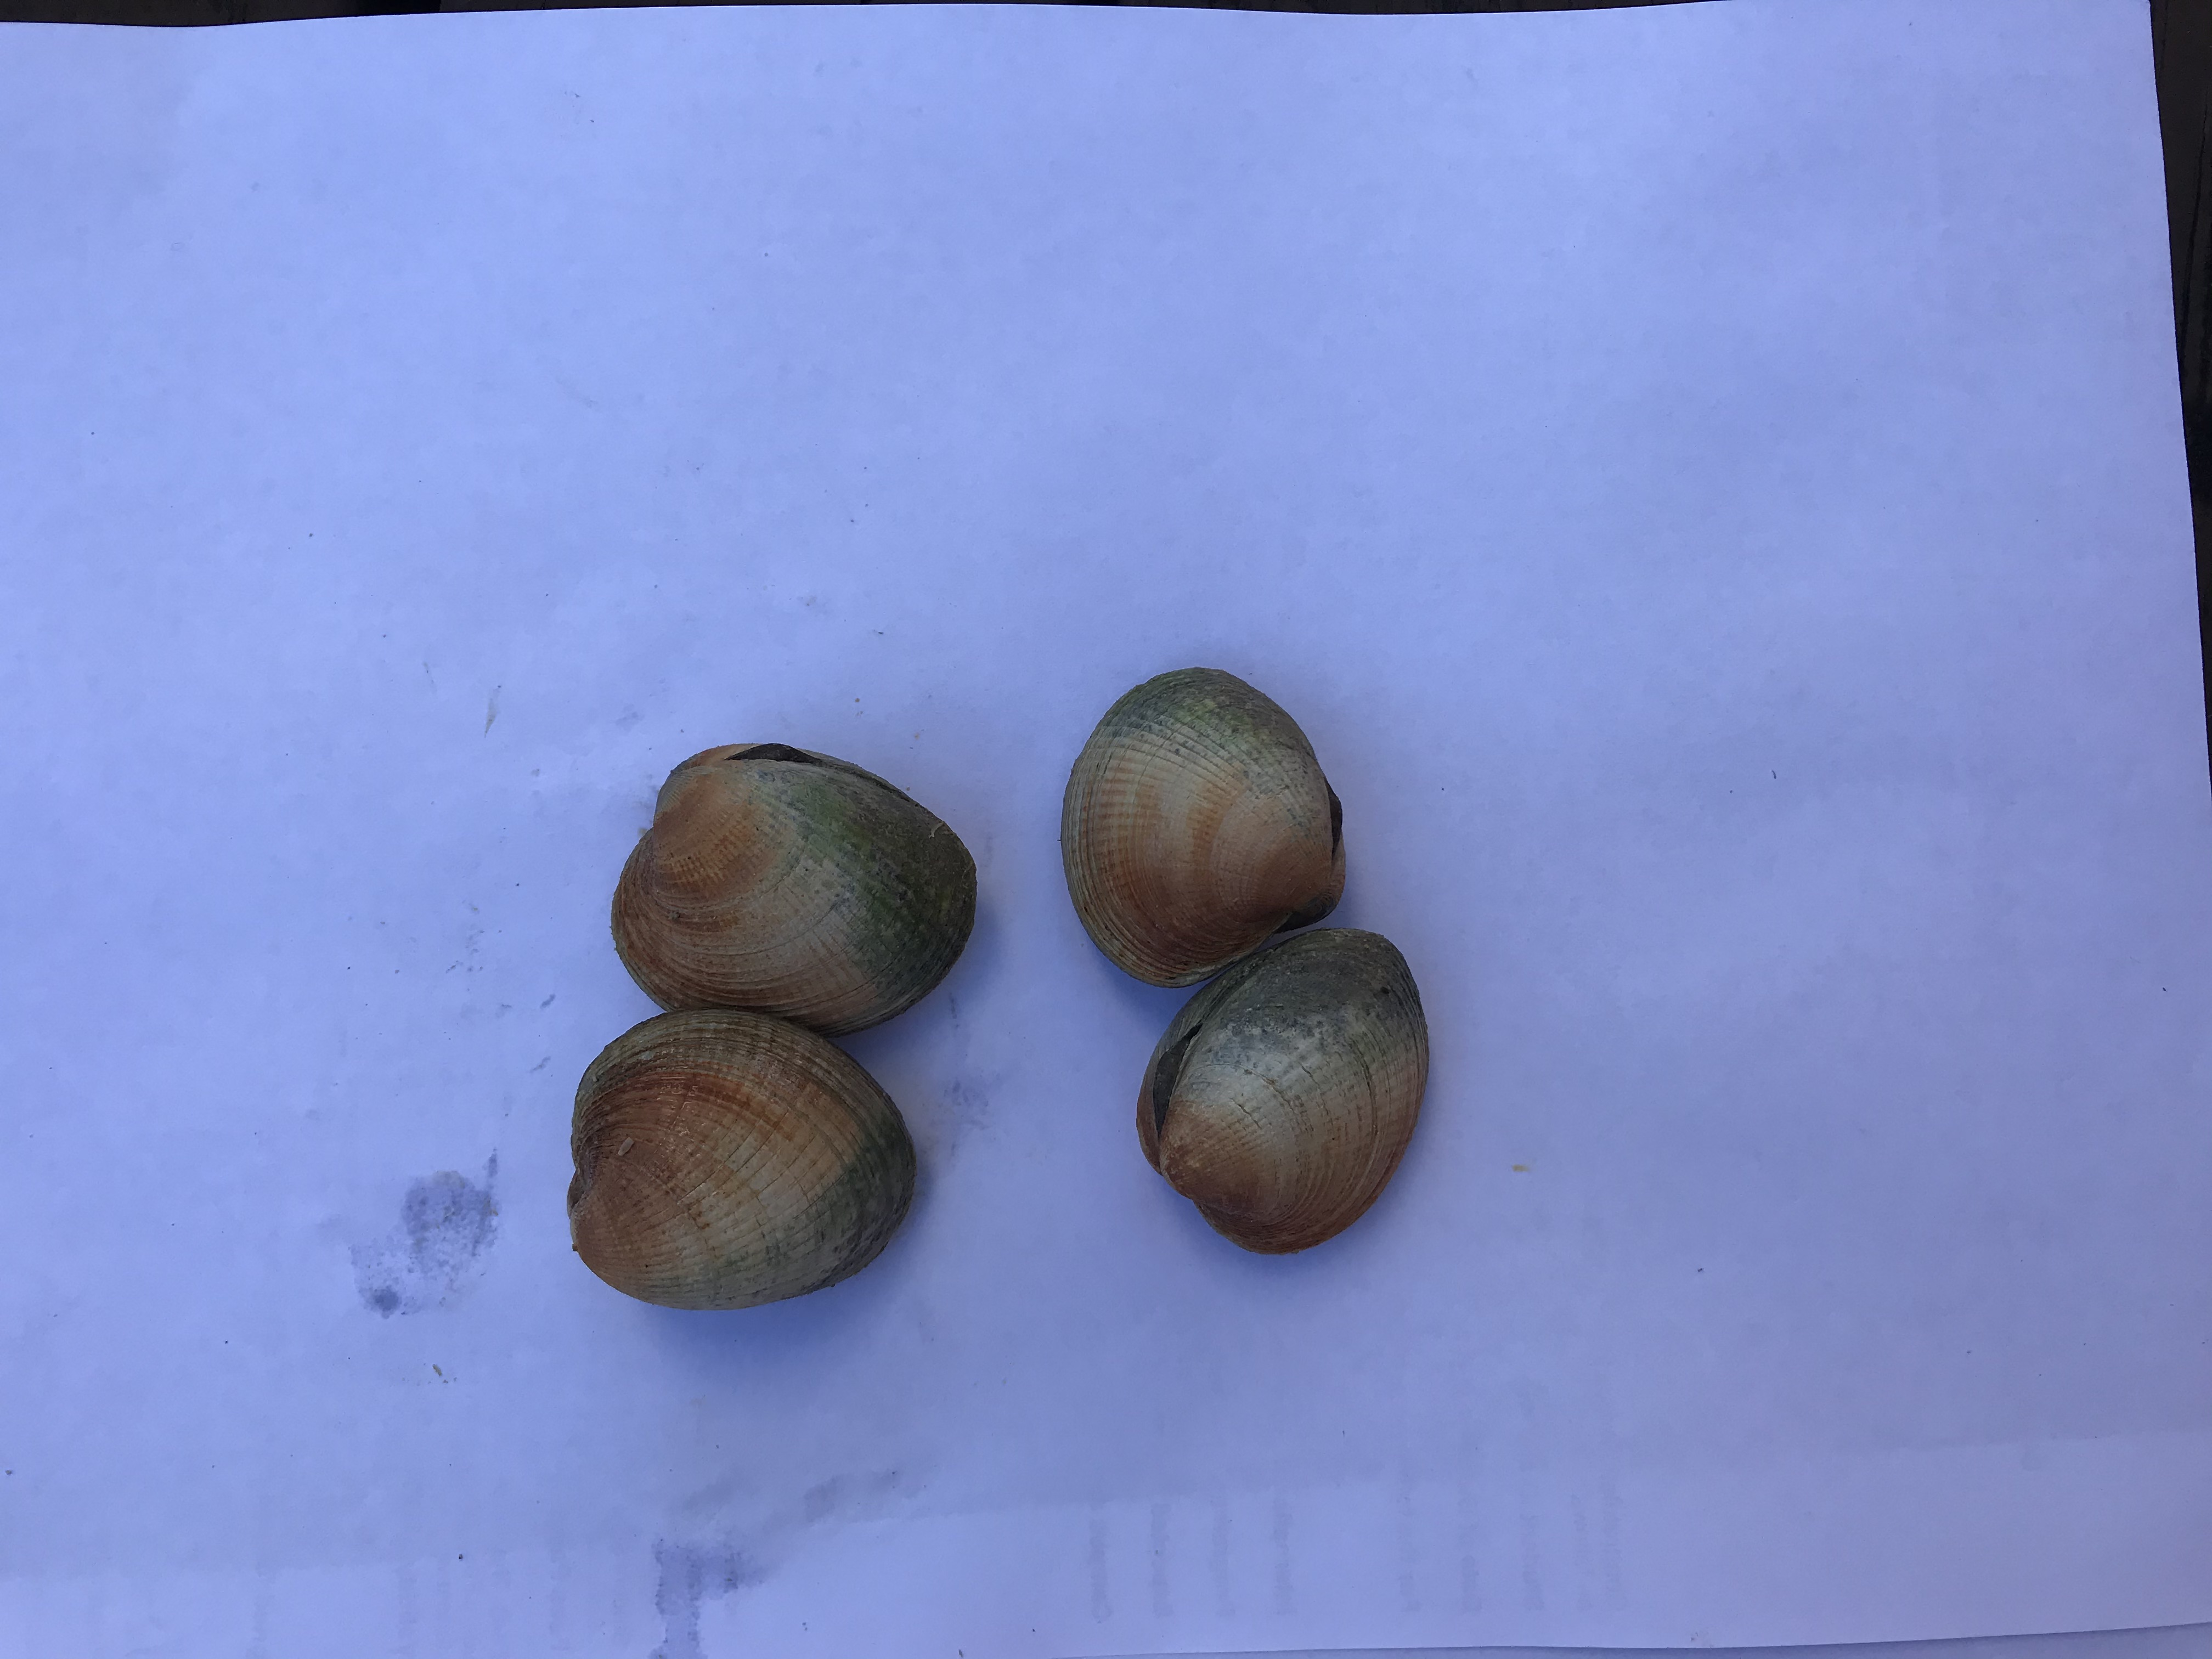cockle: (606, 737, 986, 1044), (563, 1007, 918, 1307), (1132, 924, 1437, 1260), (1059, 662, 1352, 983)
